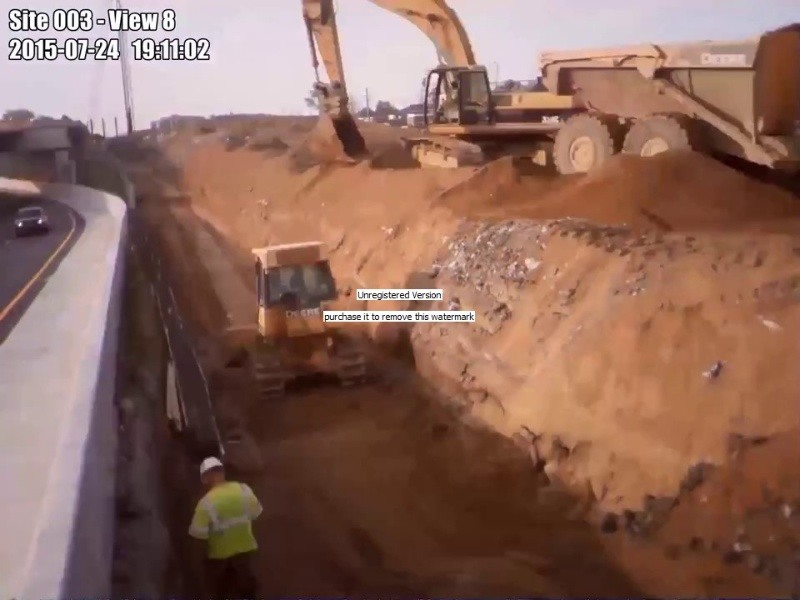bulldozer: (225, 240, 371, 401)
dumptruck: (538, 24, 800, 174)
excavator: (301, 1, 574, 172)
hardhat: (198, 456, 224, 472)
person: (186, 456, 264, 600)
wood: (164, 361, 187, 435)
